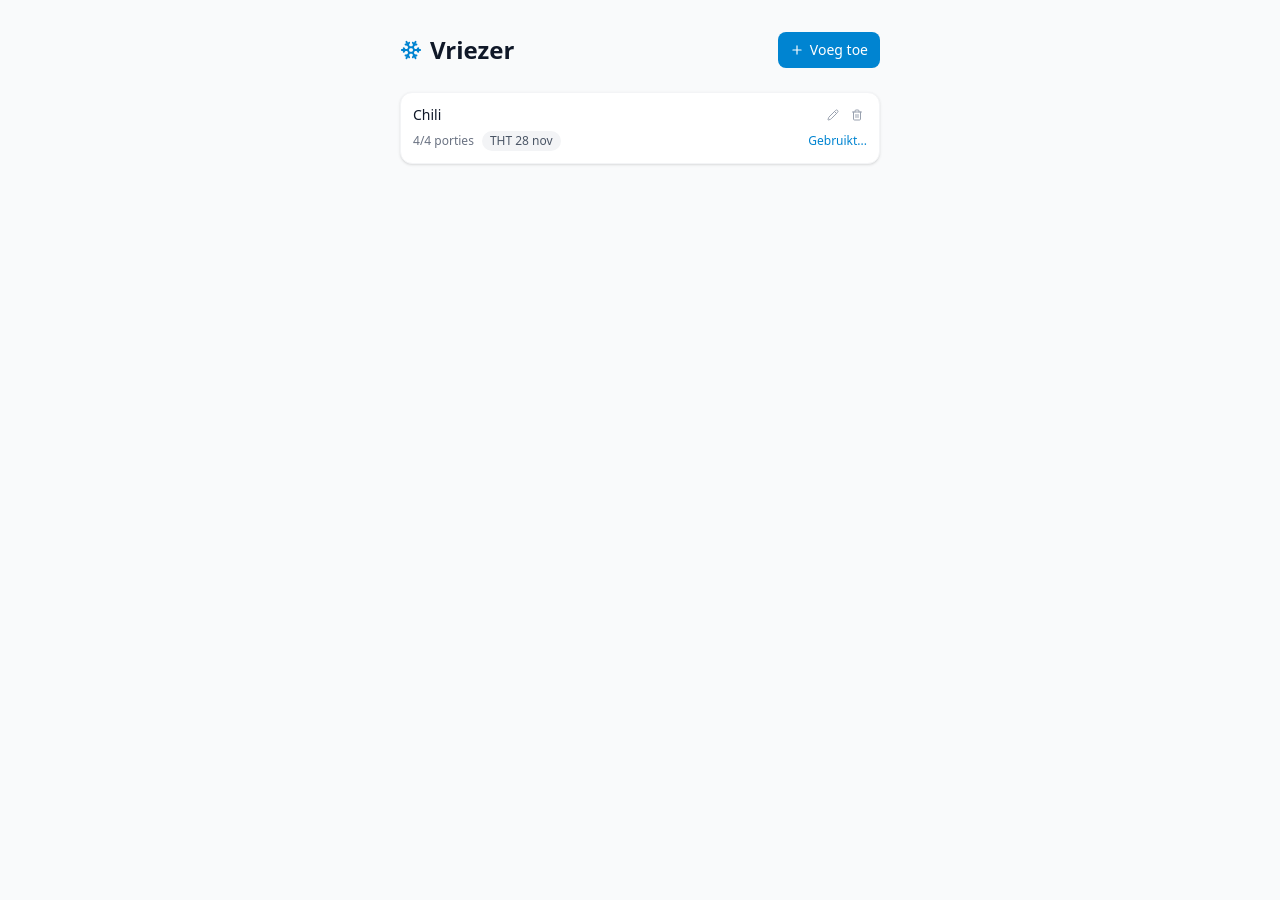
it: Vriezer › consuming partial portions updates the remaining count in place
Expected: the link "Chili" is shown, top-left (413, 105), bottom-right (441, 125)
Click the button "Gebruikt..." at {"x": 838, "y": 141}, box top-left (808, 133), bottom-right (867, 149)
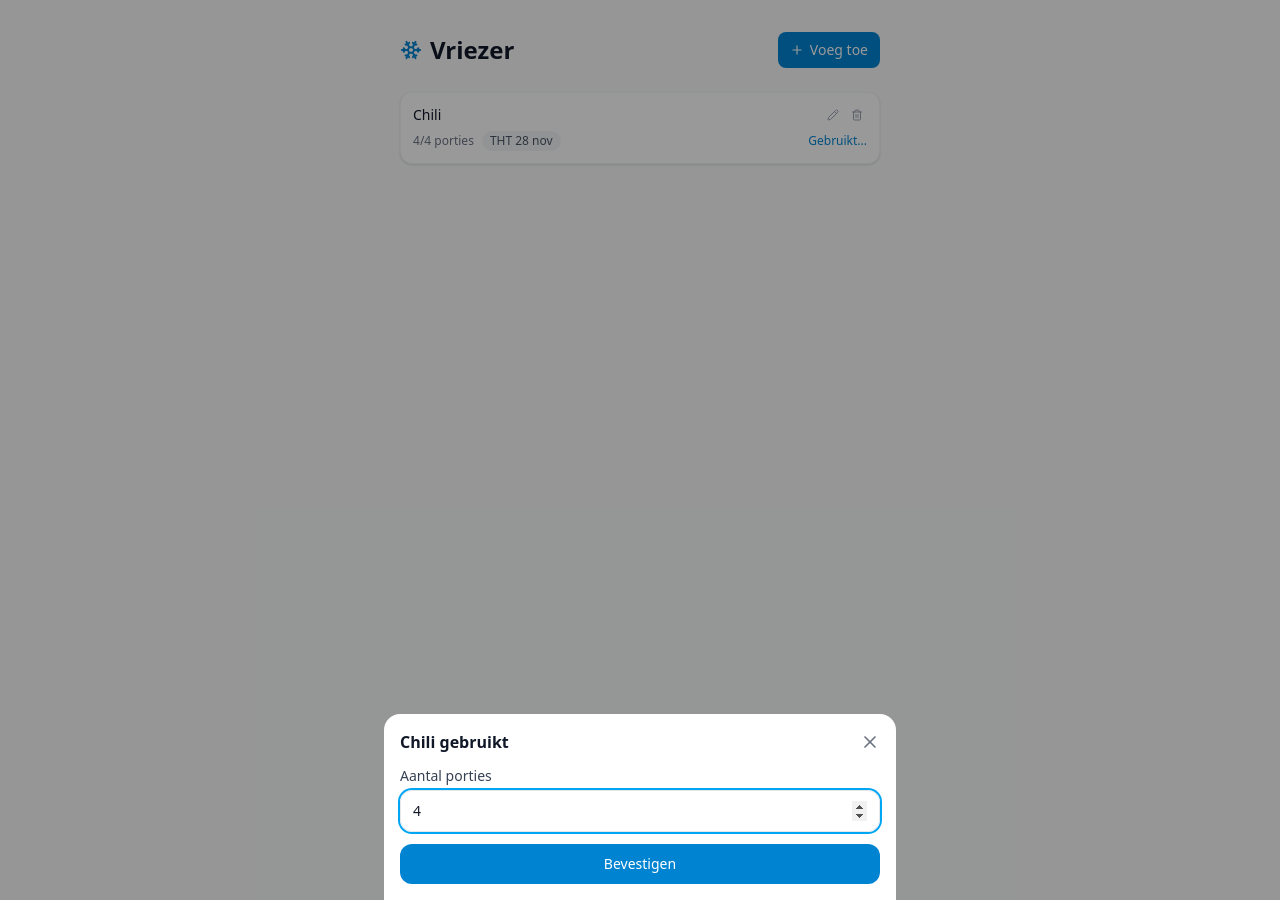
Replace the text in the number field with "2" at {"x": 640, "y": 811}, box top-left (400, 790), bottom-right (880, 832)
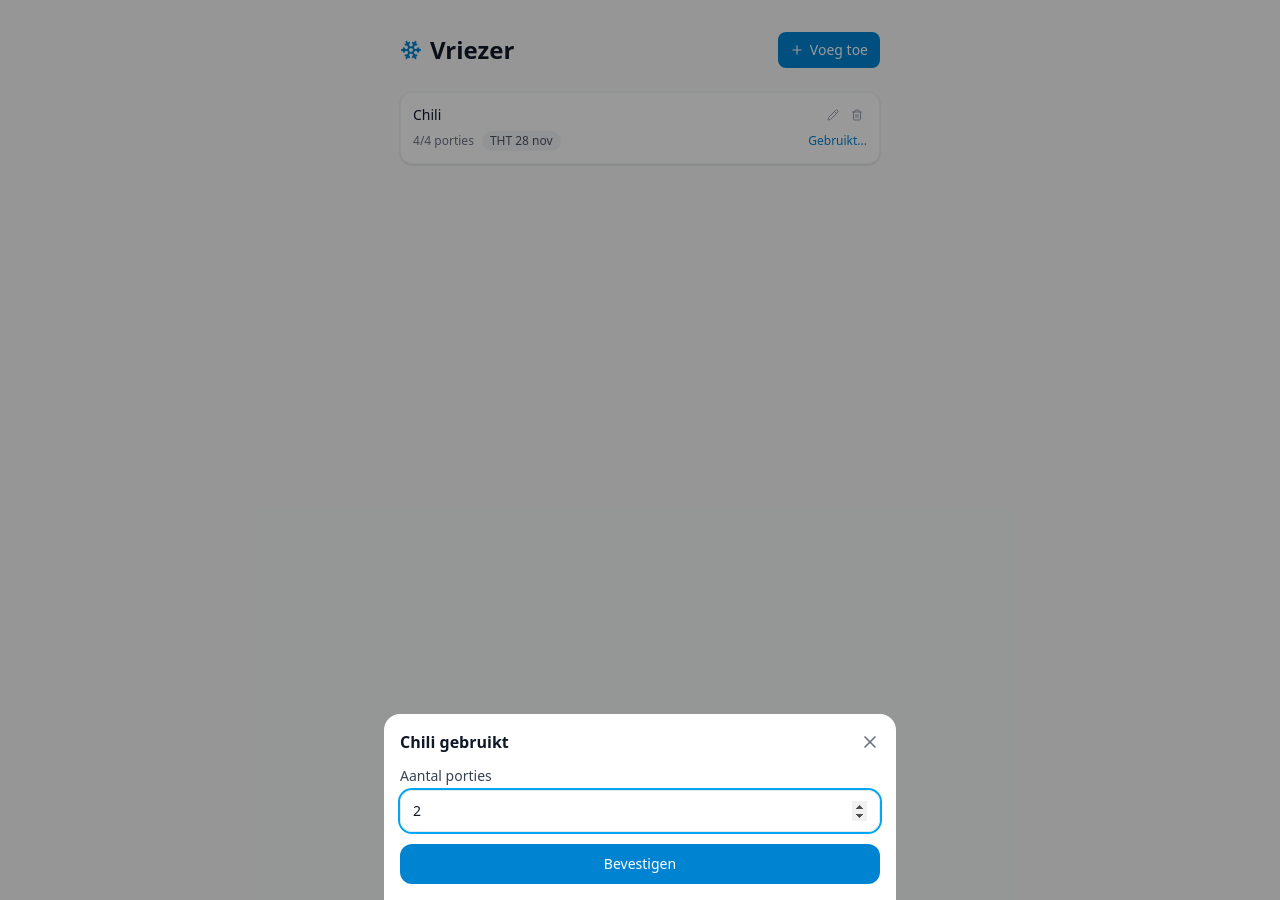
Click the button "Bevestigen" at {"x": 640, "y": 864}, box top-left (400, 844), bottom-right (880, 884)
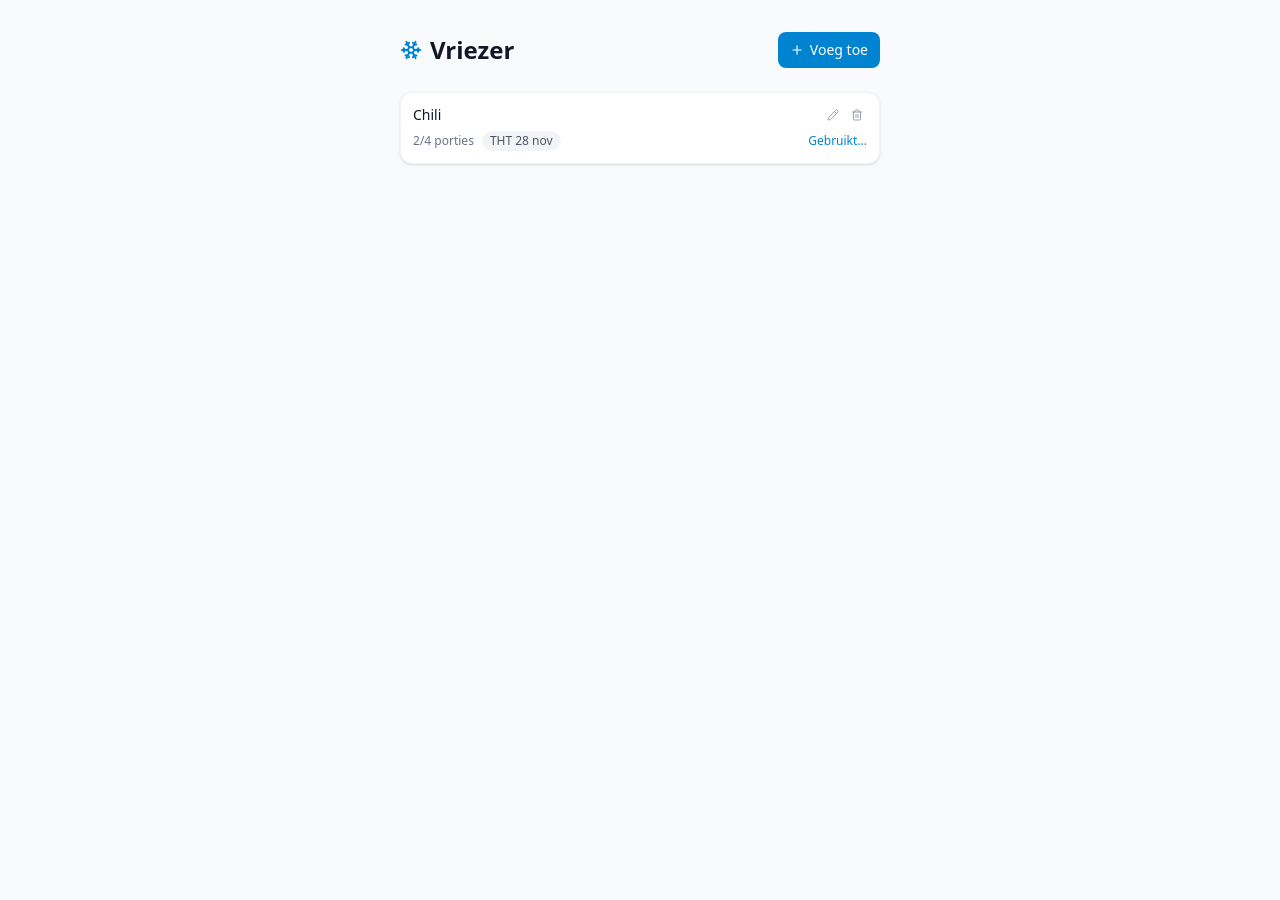
Expected: the text "2/4 porties" is shown, top-left (413, 133), bottom-right (474, 149)
